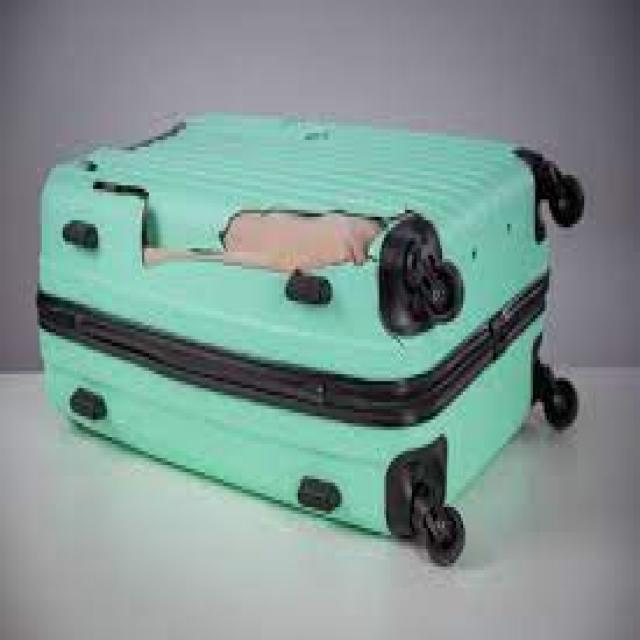Damage-bag: (92, 180, 425, 272), (125, 121, 186, 149), (302, 129, 330, 141), (84, 160, 99, 171)
